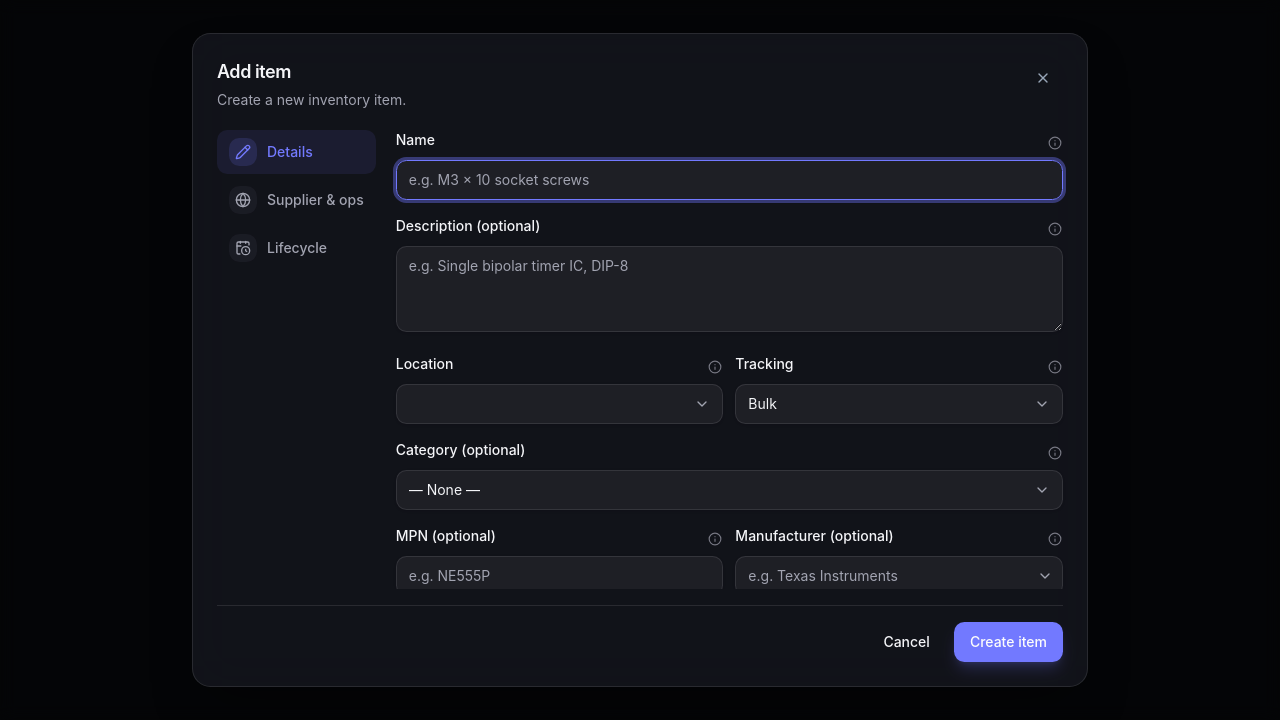
Test case: CreateItemDialog › surfaces a create failure in a toast instead of silently doing nothing
This screenshot has width=1280, height=720.
Type "Doomed item" into the field labelled "Name" at (729, 180), box [396,160,1063,200]
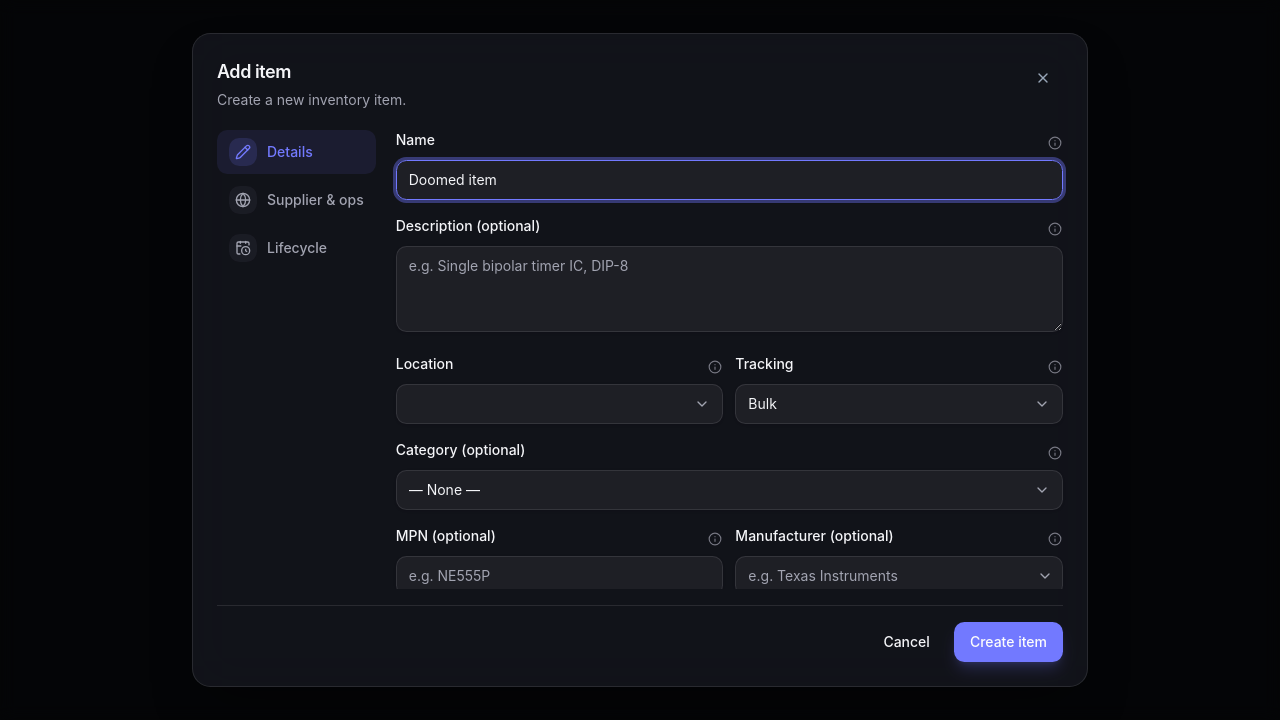
Click the button "Create item" at (1008, 642), box [954,622,1063,662]
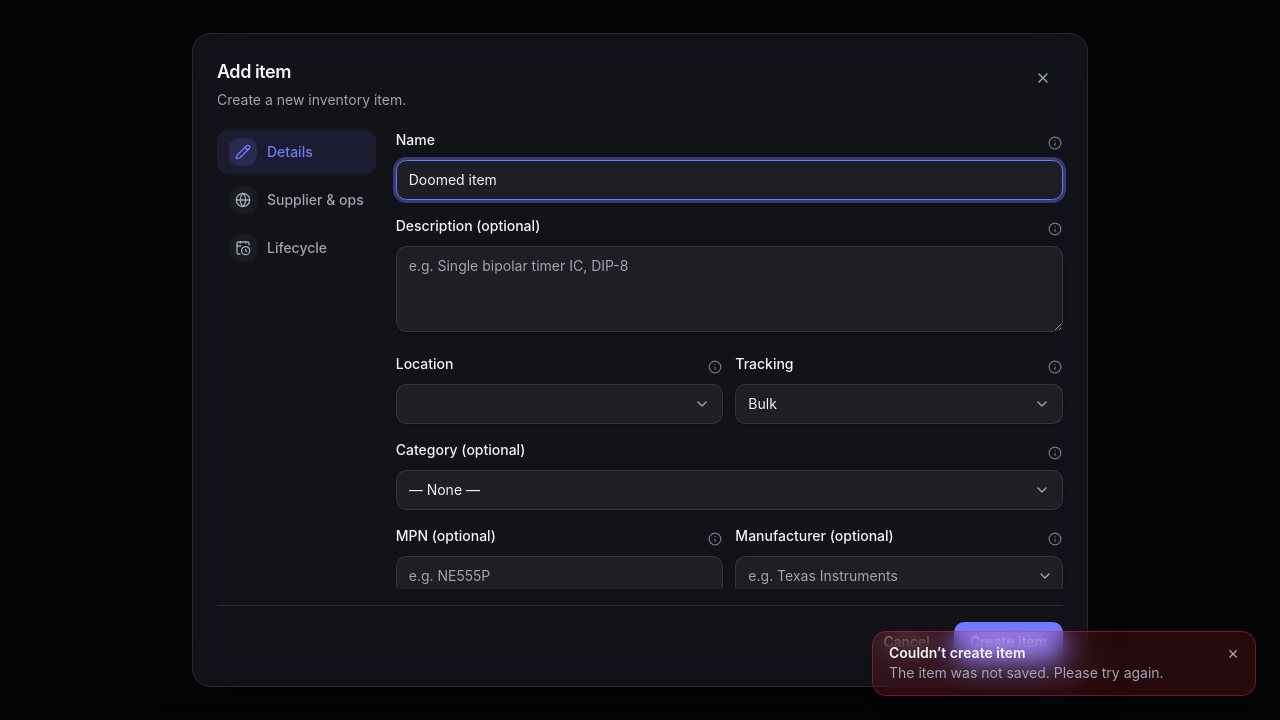
Result: the text "The item was not saved. Please try again." is shown at [889,663,1211,683]
Result: the text "Couldn’t create item" is shown at [889,644,1026,660]
